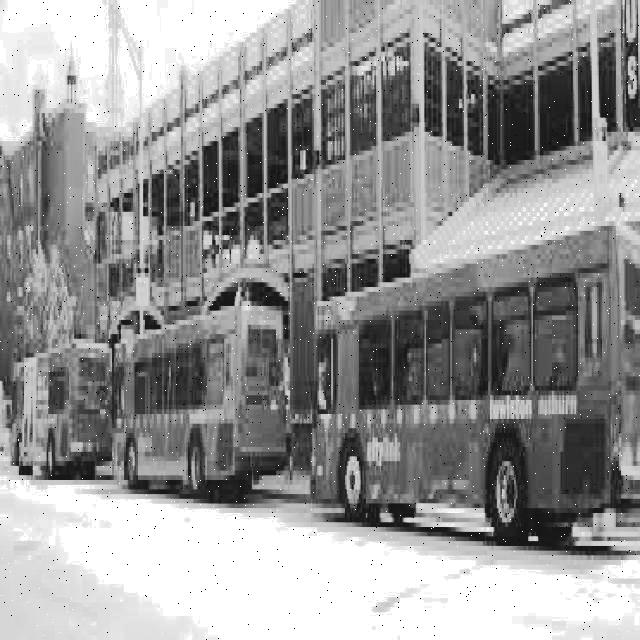Bus: (300, 218, 640, 572), (115, 296, 290, 520), (6, 336, 111, 484)
